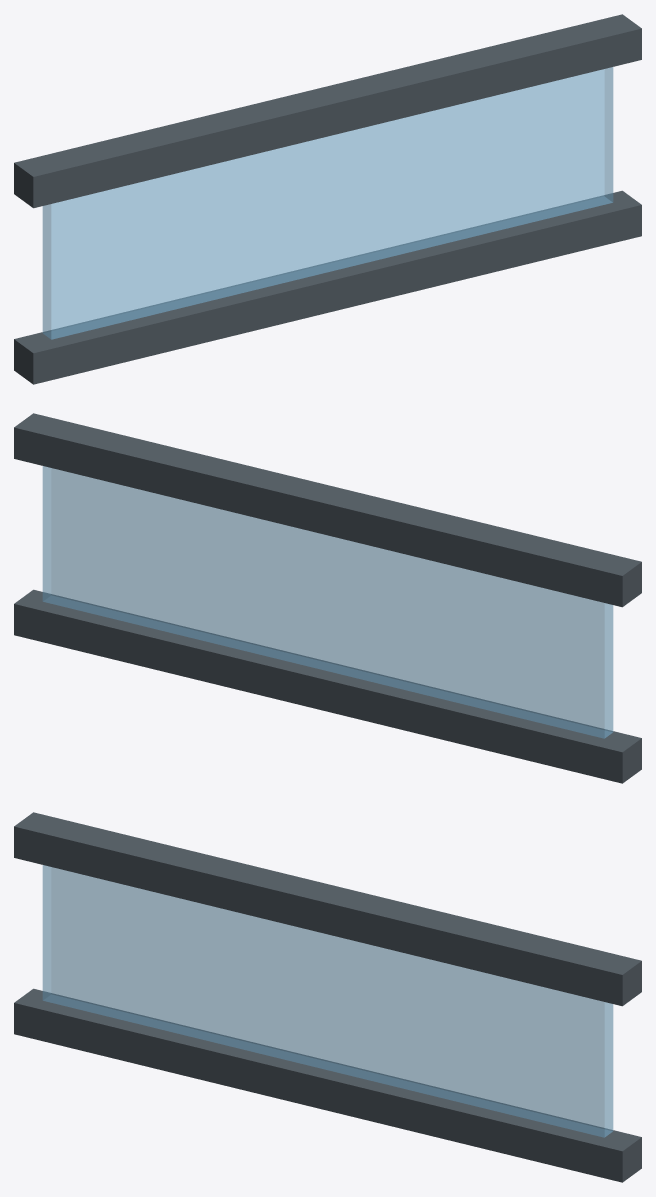
File: window.observation_slit_3m.glb
3 renders of one model, top to bottom at view 1: azimuth 30°, elevation 25°; view 2: azimuth 150°, elevation 25°; view 3: azimuth 330°, elevation 25°, orthographic.
Visible parts, largest first — view 1: slit_glass, slit_top, slit_bottom; view 2: slit_glass, slit_top, slit_bottom; view 3: slit_glass, slit_top, slit_bottom.
Boxes of the visible parts, x1,y1,x2,y2 form: slit_glass: (42,67,613,339); slit_top: (14,14,641,208); slit_bottom: (14,190,641,384); slit_glass: (42,466,613,738); slit_top: (14,413,641,607); slit_bottom: (14,589,641,783); slit_glass: (42,865,613,1137); slit_top: (14,812,641,1006); slit_bottom: (14,988,641,1182).
Bounding box in the file's own units: 3.25 × 1.06 × 0.18.
